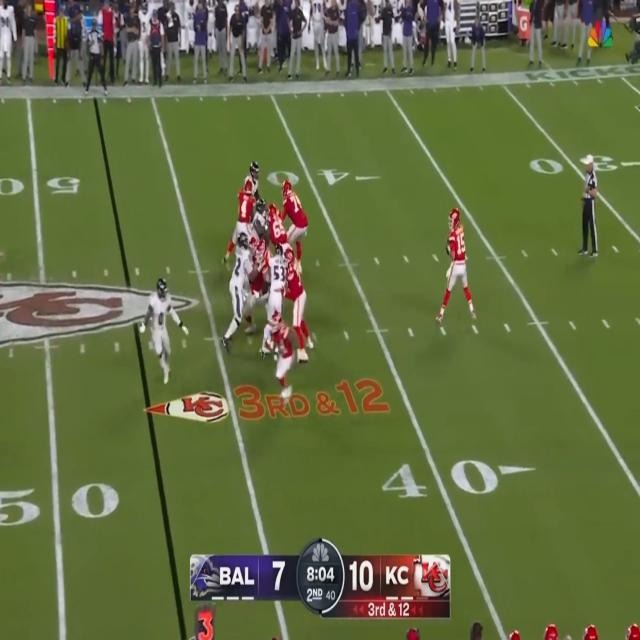Ball: (445, 236, 451, 258)
